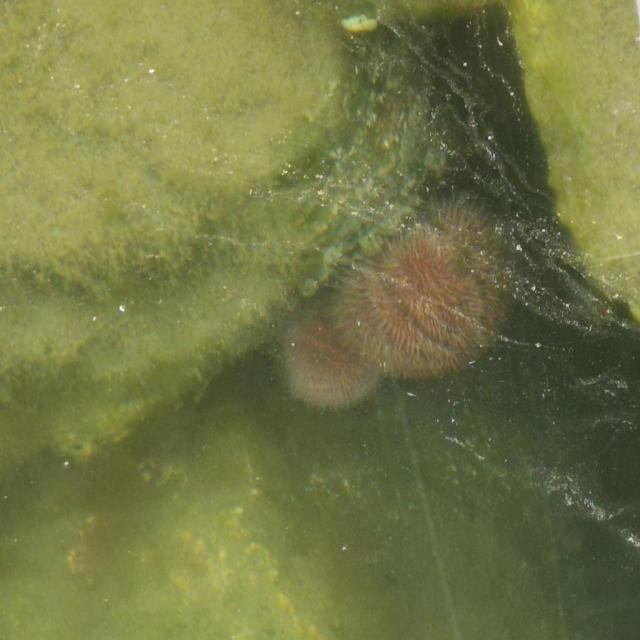Deniz Kestanesi: (328, 184, 516, 380), (278, 289, 386, 407)
